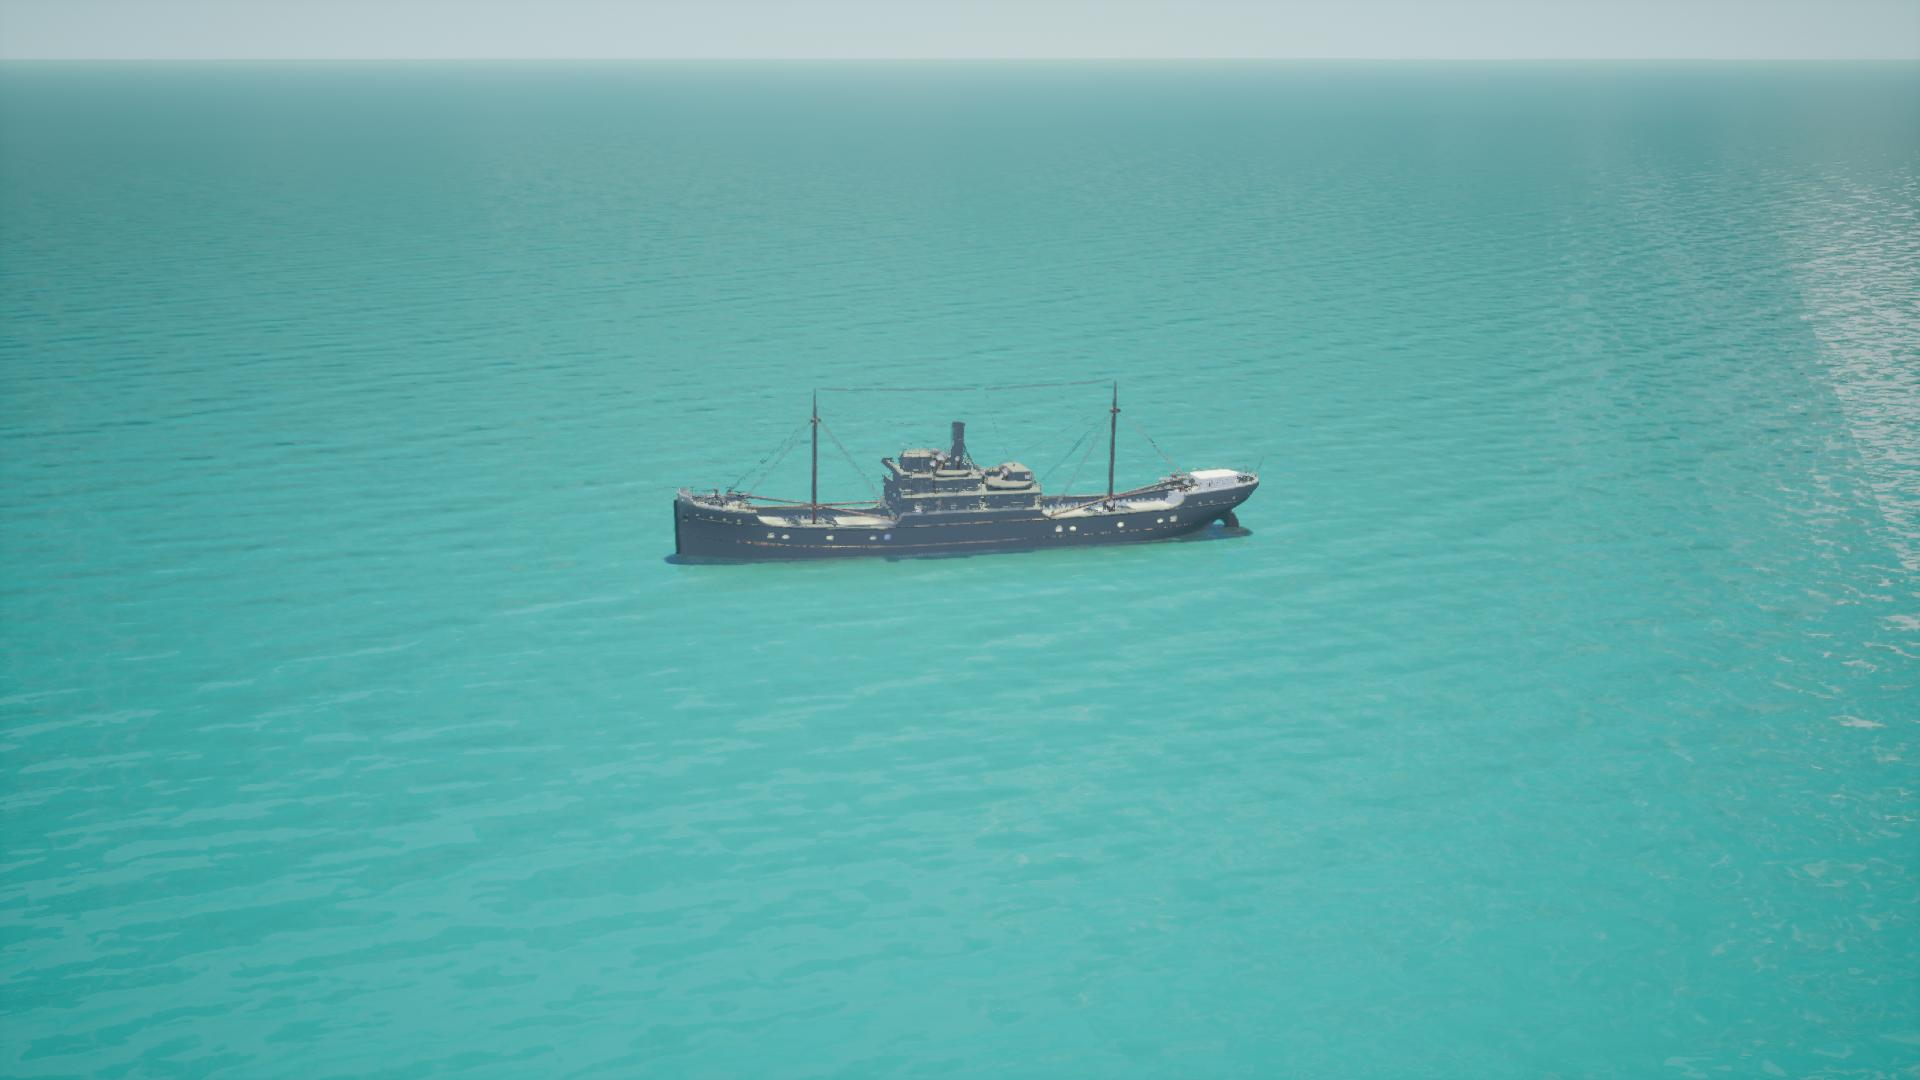Fishing Boat: (675, 396, 1254, 563)
